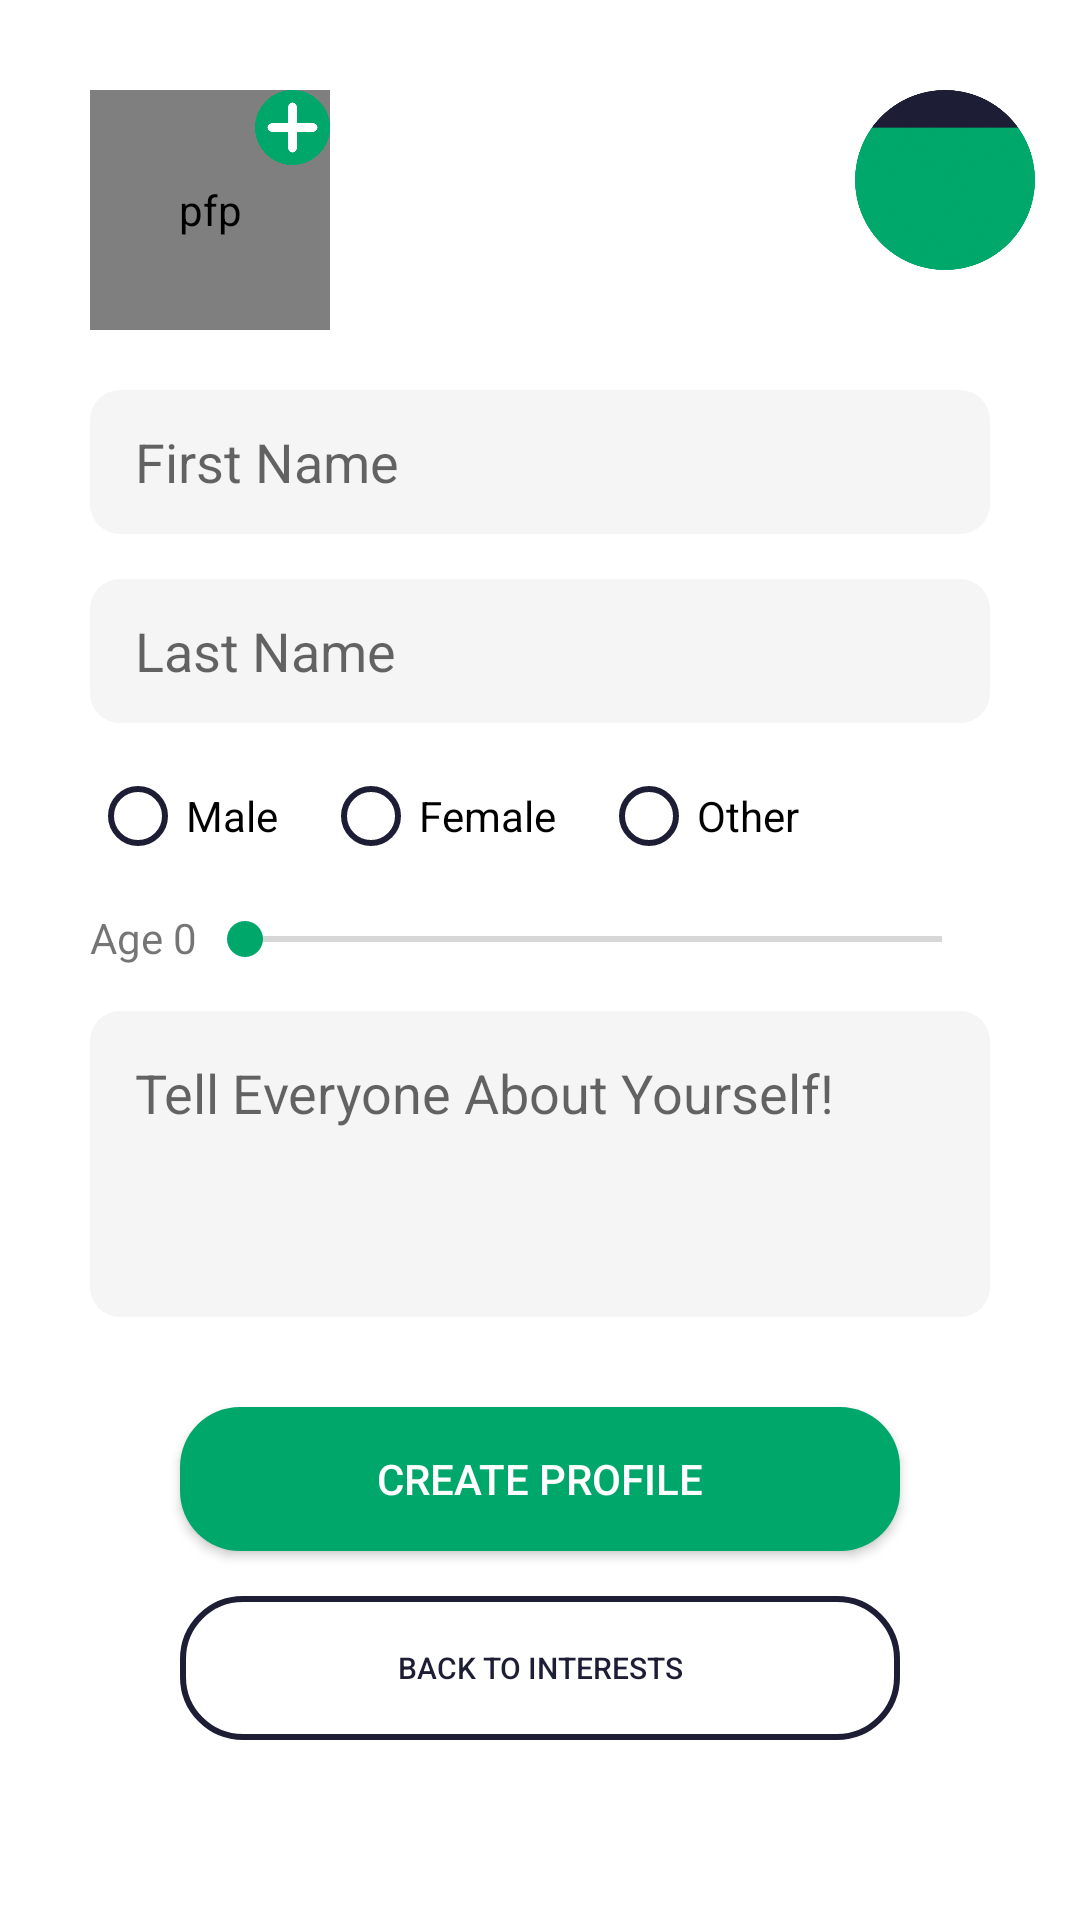

Icons on this 1080×1920 Android screen, each with the point to tap as (x=x, y=y):
add: (x=292, y=127)
